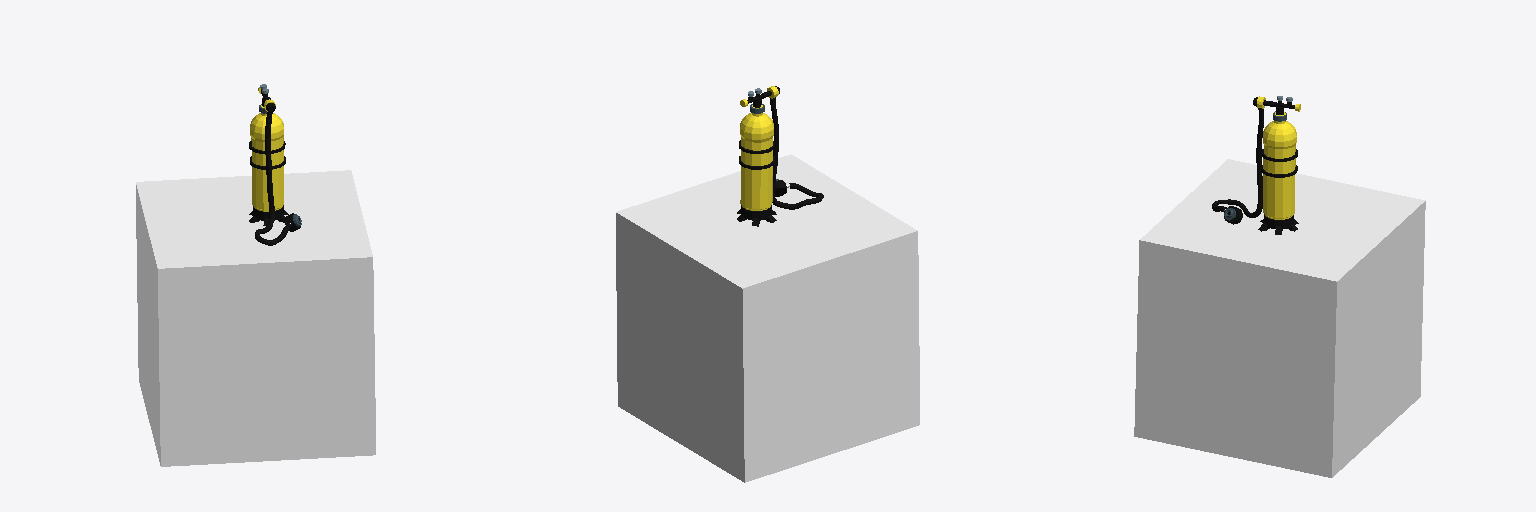
The picture shows the model from 3 angles: view 1: azimuth 30°, elevation 25°; view 2: azimuth 150°, elevation 25°; view 3: azimuth 270°, elevation 25°; orthographic projection.
Parts seen in each view (by area): view 1: group[number redacted], group[number redacted], group[number redacted], group[number redacted]; view 2: group[number redacted], group[number redacted], group[number redacted]; view 3: group[number redacted], group[number redacted], group[number redacted], group[number redacted].
Boxes of the visible parts, box(x1,y1,x2,y2) form: group[number redacted]: box(136, 170, 375, 466); group[number redacted]: box(251, 136, 283, 211); group[number redacted]: box(250, 113, 283, 141); group[number redacted]: box(265, 112, 274, 222); group[number redacted]: box(616, 154, 919, 482); group[number redacted]: box(740, 137, 772, 210); group[number redacted]: box(740, 113, 773, 142); group[number redacted]: box(1134, 159, 1425, 477); group[number redacted]: box(1263, 145, 1295, 219); group[number redacted]: box(1263, 121, 1296, 148); group[number redacted]: box(1253, 108, 1263, 217).
Size of the model in its own units: 2 by 2.52 by 2.03.